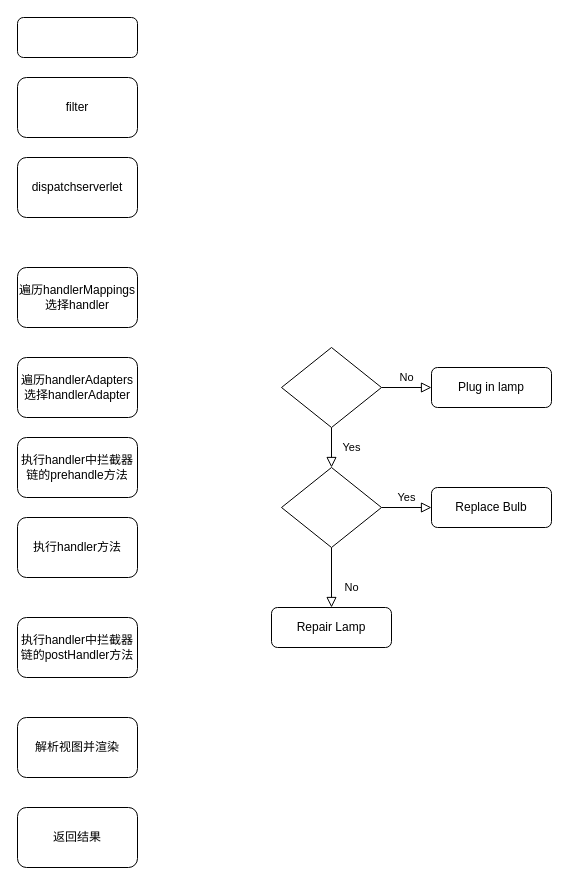
Image size: 569x885. Some labels were removed from this diagram. Each missing label, with the box of its shape:
Bulb burned out?: (280, 466, 382, 548)
http请求: (16, 16, 138, 58)
Lamp plugged in?: (280, 346, 382, 428)
